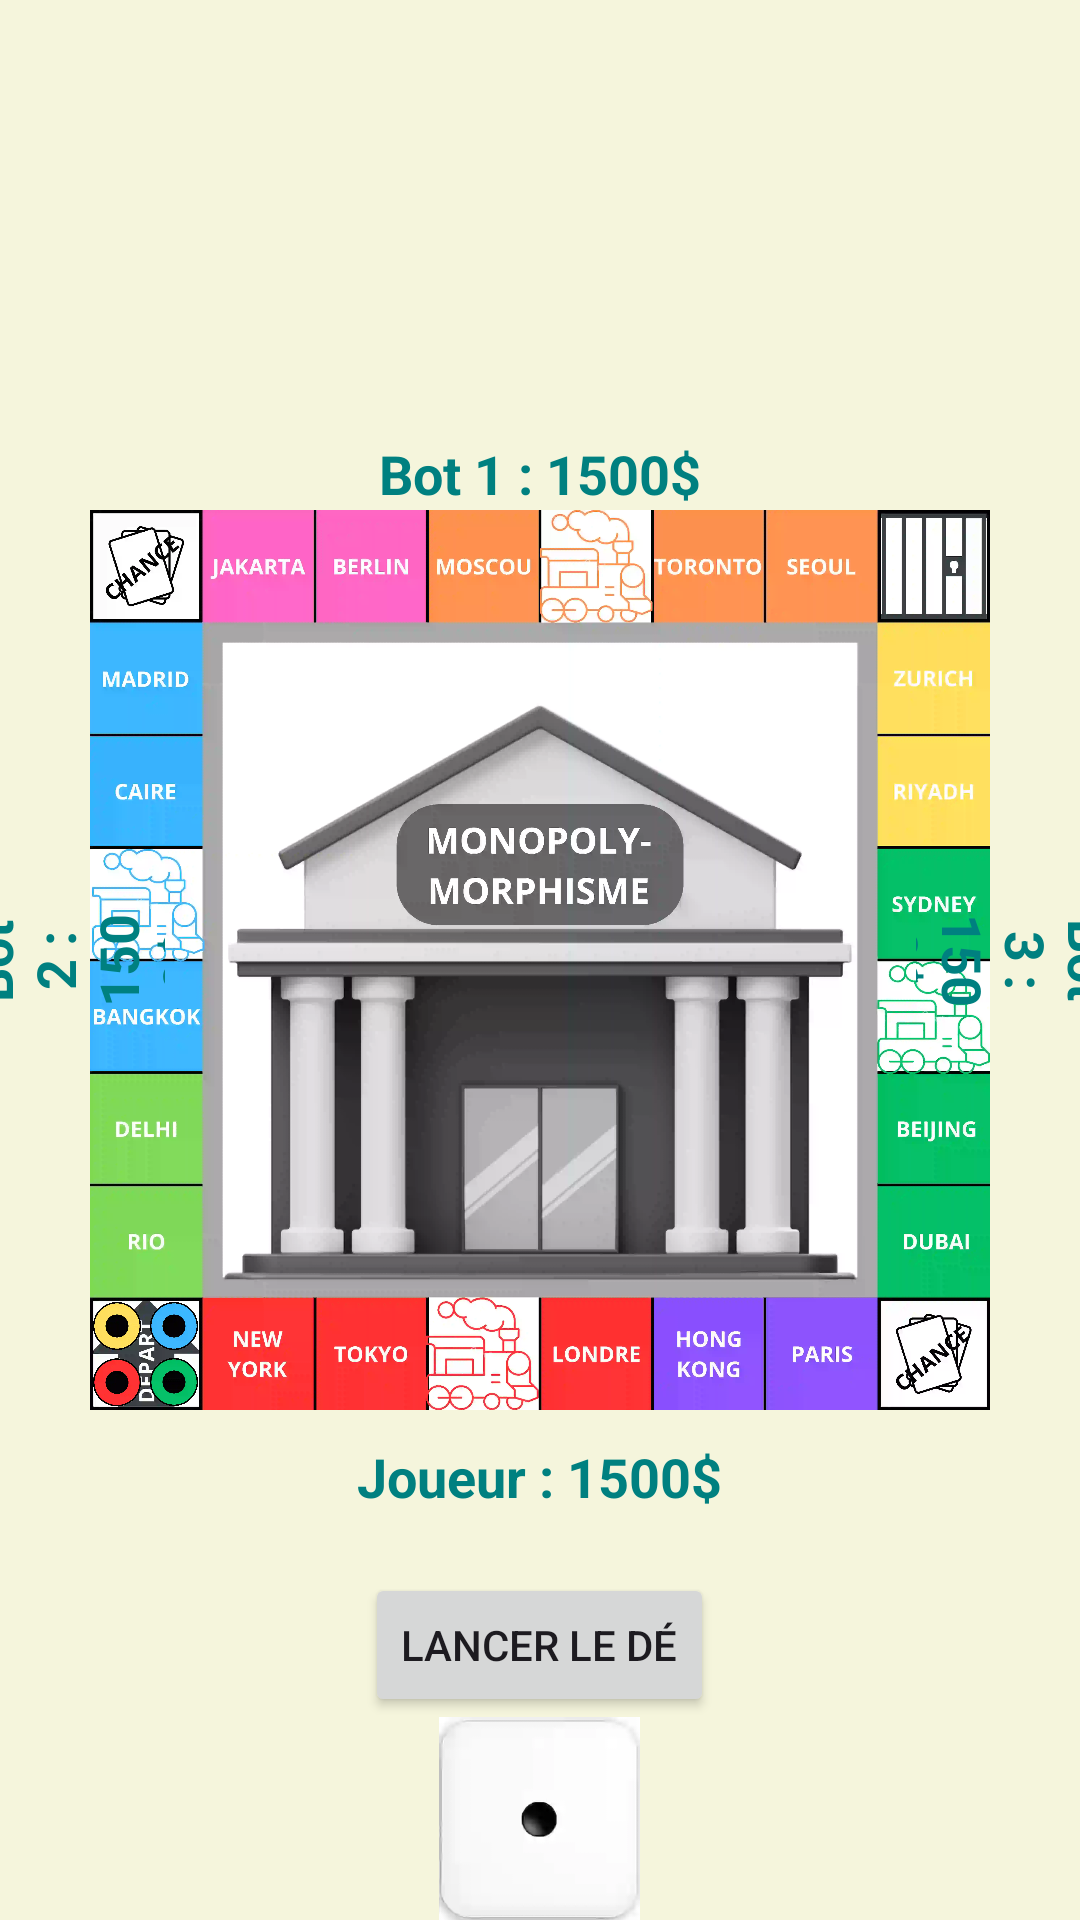

Icon click points for this 1080 x 1920 phone screenshot, format point (x, y):
pion bleu: point (180, 1320)
pion jaune: point (111, 1320)
pion rouge: point (115, 1384)
pion vert: point (180, 1388)
